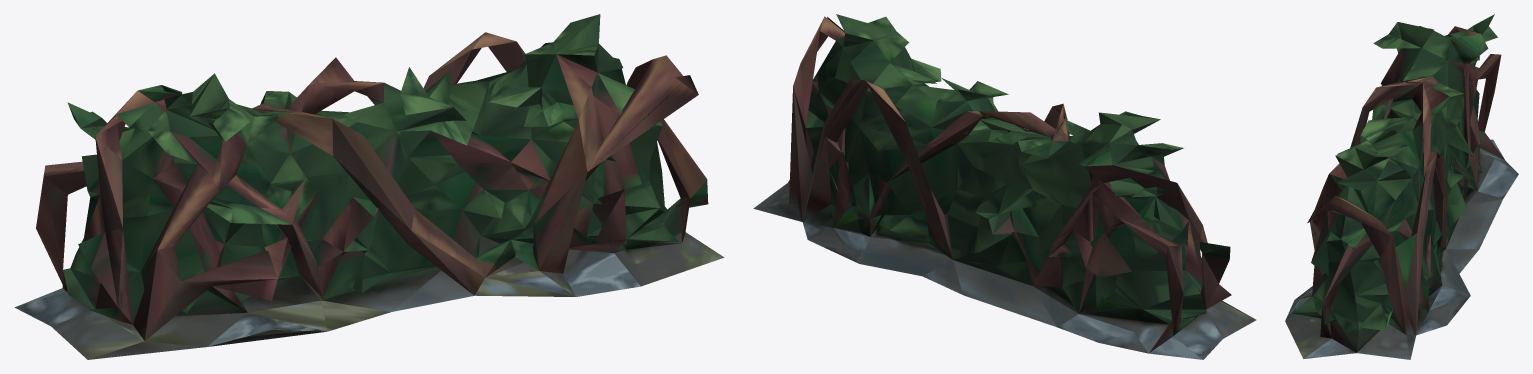
3 views of the same model, side by side, from view 1: azimuth 30°, elevation 25°; view 2: azimuth 150°, elevation 25°; view 3: azimuth 270°, elevation 25° (orthographic). The views are drawn at different scales.
Parts seen in each view (by area): view 1: bramble; view 2: bramble; view 3: bramble.
Boxes of the visible parts, x1,y1,x2,y2 form: bramble: (14, 14, 724, 359); bramble: (753, 14, 1256, 359); bramble: (1285, 14, 1518, 359).
Size of the model in its own units: 0.9456 by 0.3547 by 0.4284.
1 material, 1 textured.
